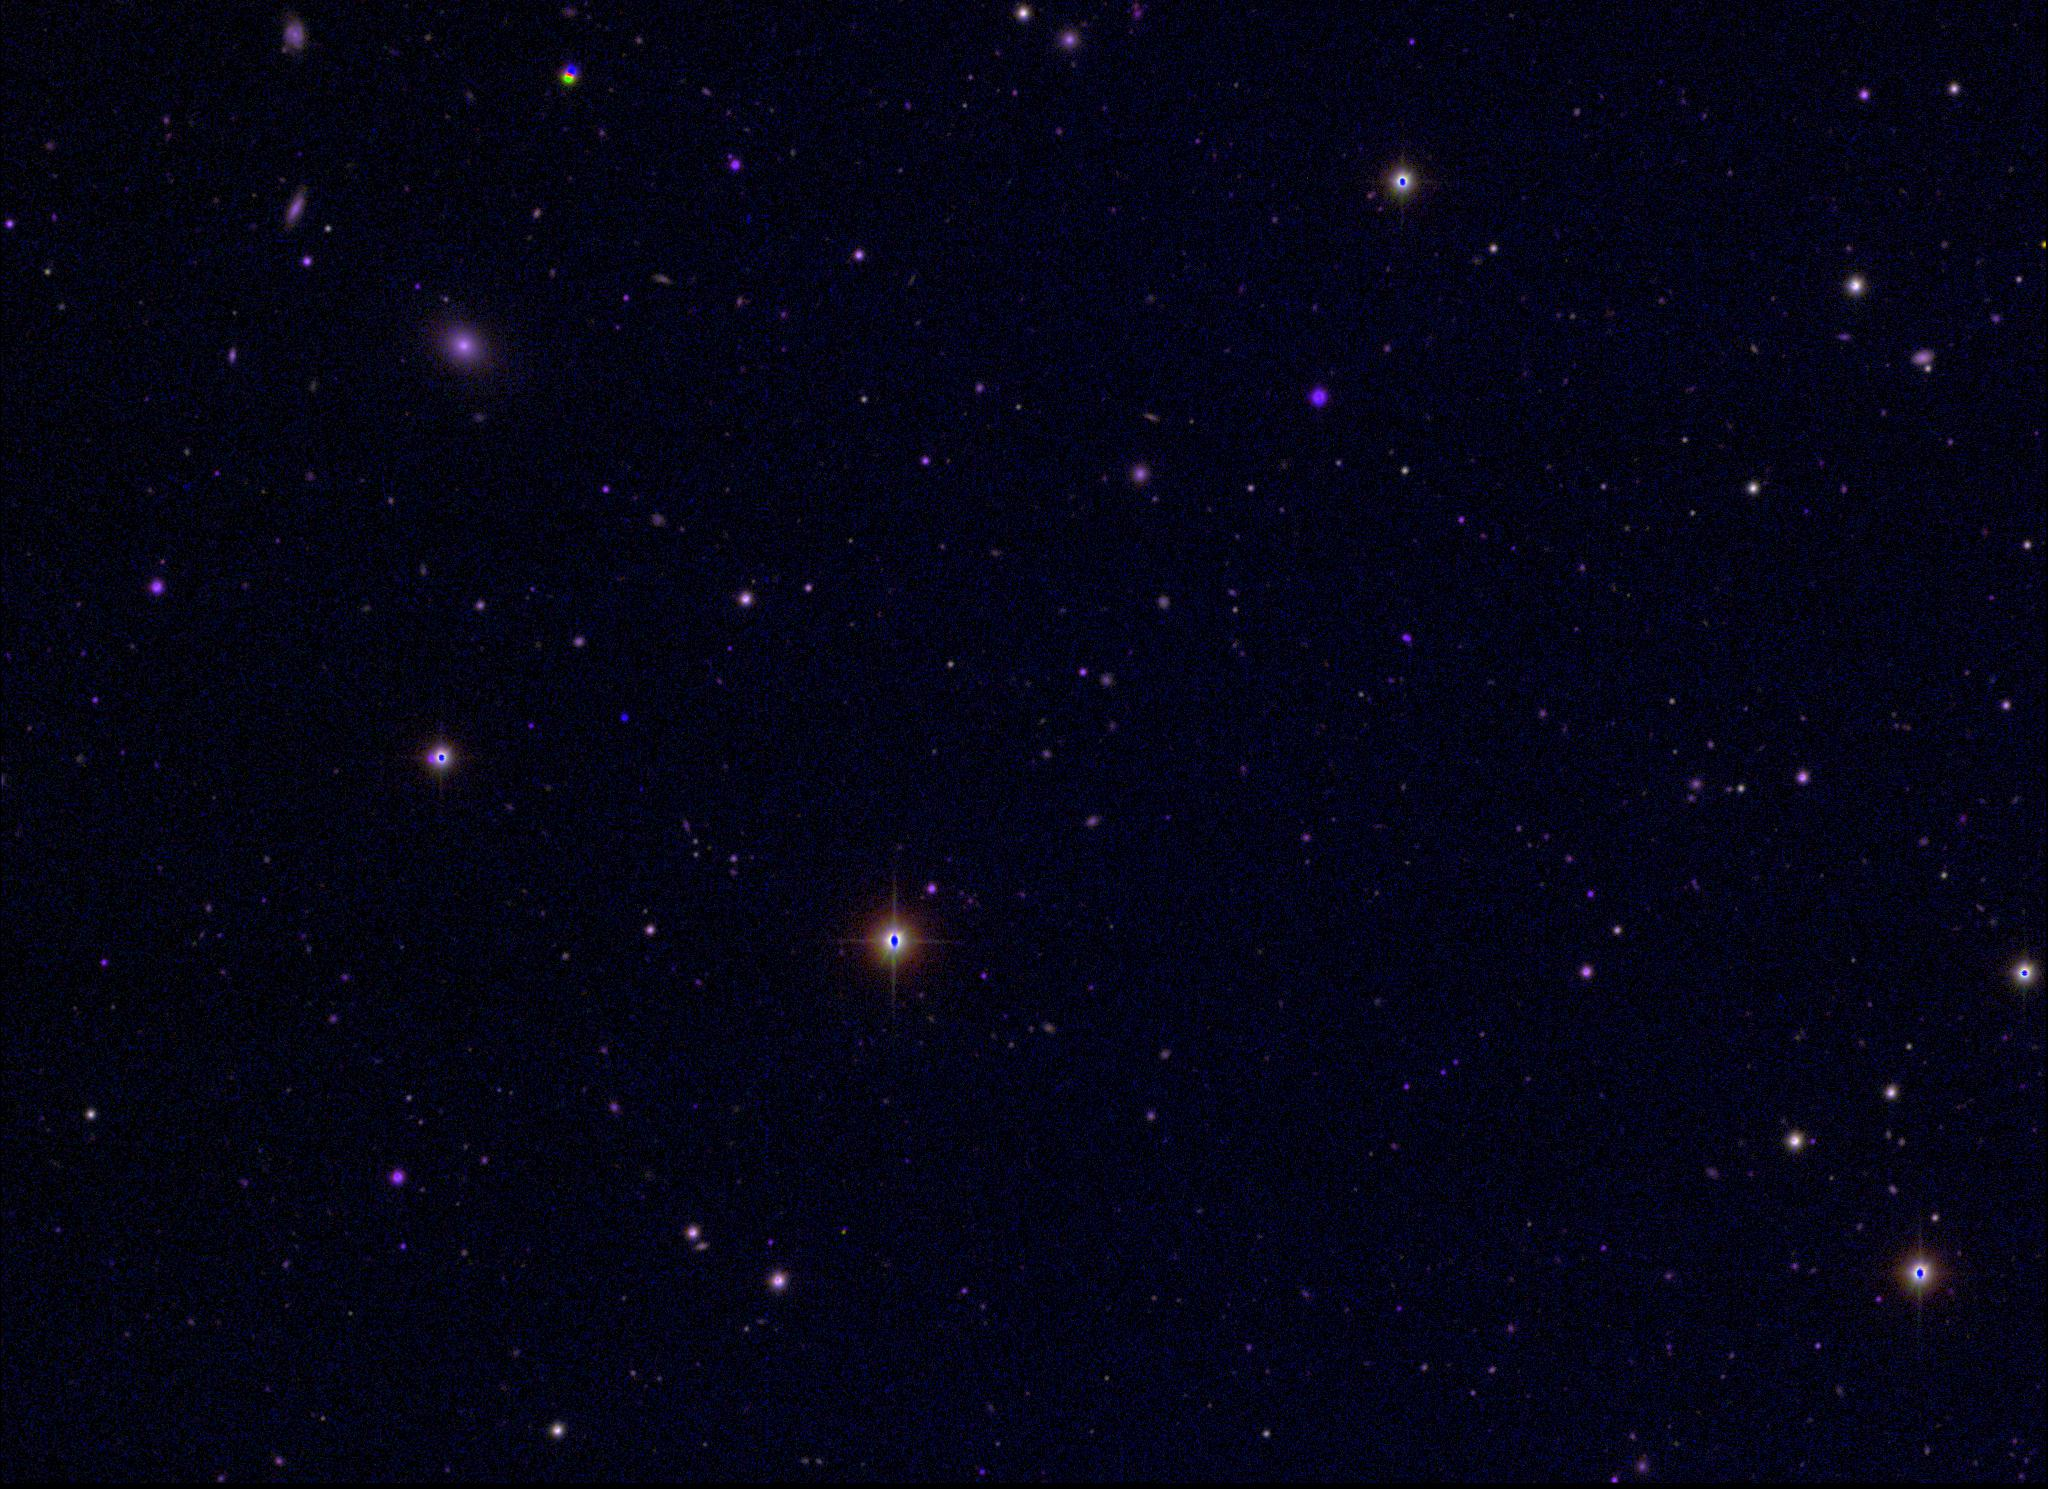L: (619, 713, 631, 725)
